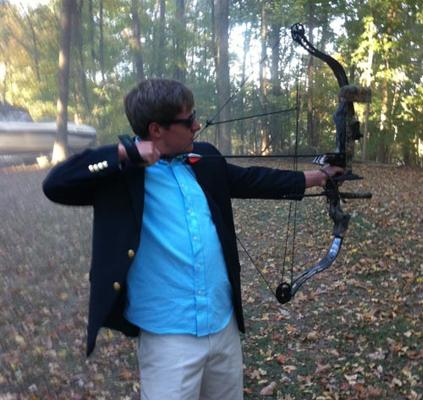person: (44, 76, 348, 398)
